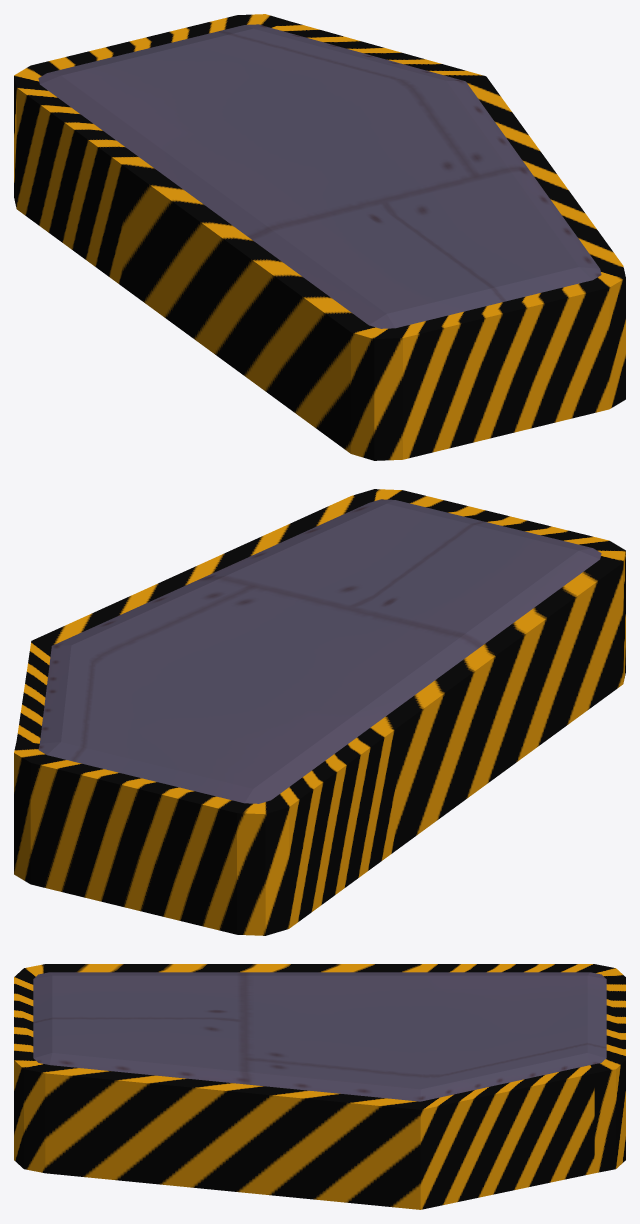
The model's file is Default02_Platform.glb.
The picture shows the model from 3 angles, top to bottom: view 1: azimuth 30°, elevation 25°; view 2: azimuth 150°, elevation 25°; view 3: azimuth 270°, elevation 25°; orthographic projection. The views are drawn at different scales.
Parts seen in each view (by area): view 1: Default02_Platform; view 2: Default02_Platform; view 3: Default02_Platform.
Part boxes in pixels (x1,y1,x2,y2): Default02_Platform: (14, 14, 625, 460); Default02_Platform: (14, 489, 625, 935); Default02_Platform: (14, 964, 625, 1209).
Bounding box in the file's own units: 1.68 × 0.5607 × 2.98.
1 material, 1 textured.
